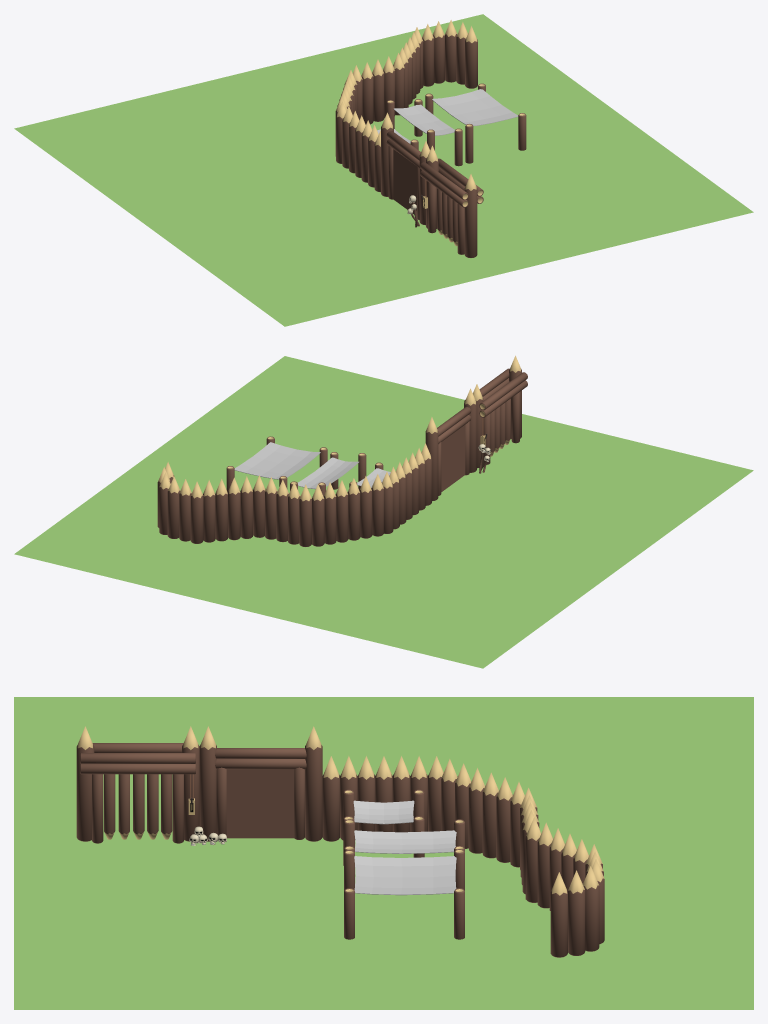
Rendered from wood_fort_pack.fbx.
The picture shows the model from 3 angles, top to bottom: view 1: azimuth 30°, elevation 25°; view 2: azimuth 150°, elevation 25°; view 3: azimuth 270°, elevation 25°; orthographic projection. The views are drawn at different scales.
Parts seen in each view (by area): view 1: grass, Wood_doorway_1, wood_wall_7, tribe_gazebo_2x2, wood_wall_4, Wood_doorway_2, tribe_gazebo_2x1, wood_wall_5, wood_wall_3, wood_wall_2, Wood_gate_2, wood_gate_1 (+2 smaller); view 2: grass, wood_wall_6, wood_wall_5, wood_wall_7, wood_wall_4, Wood_doorway_1, Wood_doorway_2, tribe_gazebo_2x2, wood_wall_3, tribe_gazebo_2x1, Wood_gate_2, wood_gate_1 (+1 smaller); view 3: grass, Wood_doorway_1, Wood_doorway_2, wood_wall_7, wood_wall_6, tribe_gazebo_2x2, Wood_gate_2, wood_gate_1, wood_wall_5, tribe_gazebo_2x1, wood_wall_2, tribe_gazebo_1x1 (+3 smaller).
Part boxes in pixels (<box>): grass: <box>14,14,753,326</box>; Wood_doorway_1: <box>420,145,483,257</box>; wood_wall_7: <box>336,101,380,192</box>; tribe_gazebo_2x2: <box>425,83,526,163</box>; wood_wall_4: <box>352,56,395,124</box>; Wood_doorway_2: <box>381,112,429,225</box>; tribe_gazebo_2x1: <box>386,99,462,166</box>; wood_wall_5: <box>393,32,420,115</box>; wood_wall_3: <box>414,21,444,88</box>; wood_wall_2: <box>445,20,467,84</box>; Wood_gate_2: <box>393,149,416,214</box>; wood_gate_1: <box>437,188,457,246</box>; grass: <box>14,356,753,668</box>; wood_wall_6: <box>312,474,383,546</box>; wood_wall_5: <box>203,475,265,542</box>; wood_wall_7: <box>382,443,431,533</box>; wood_wall_4: <box>265,477,311,546</box>; Wood_doorway_1: <box>464,355,527,468</box>; Wood_doorway_2: <box>425,388,476,501</box>; tribe_gazebo_2x2: <box>226,436,327,492</box>; wood_wall_3: <box>167,476,203,543</box>; tribe_gazebo_2x1: <box>290,452,366,496</box>; Wood_gate_2: <box>441,425,465,491</box>; wood_gate_1: <box>490,398,510,456</box>; grass: <box>14,697,753,1009</box>; Wood_doorway_1: <box>76,726,199,843</box>; Wood_doorway_2: <box>199,726,322,841</box>; wood_wall_7: <box>322,756,443,841</box>; wood_wall_6: <box>441,759,524,867</box>; tribe_gazebo_2x2: <box>344,849,464,939</box>; Wood_gate_2: <box>226,769,294,838</box>; wood_gate_1: <box>104,774,172,839</box>; wood_wall_5: <box>525,817,588,910</box>; tribe_gazebo_2x1: <box>344,819,464,853</box>; wood_wall_2: <box>568,866,599,955</box>; tribe_gazebo_1x1: <box>343,789,424,865</box>.
Size of the model in its own units: 8427 by 1568 by 8427.
